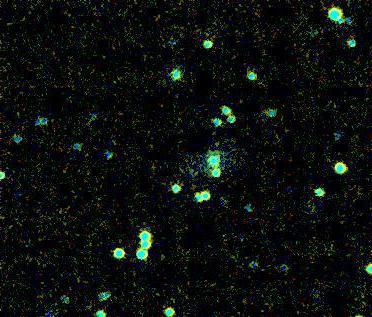star: (0, 201, 20, 231)
